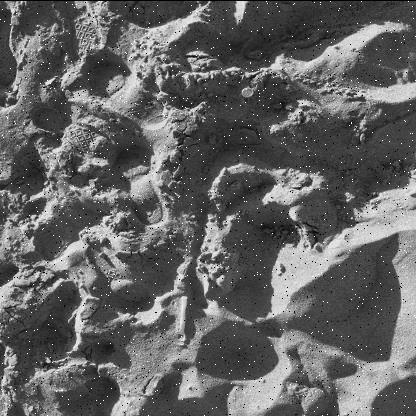other: (176, 295, 186, 344)
plastic: (242, 86, 254, 96)
